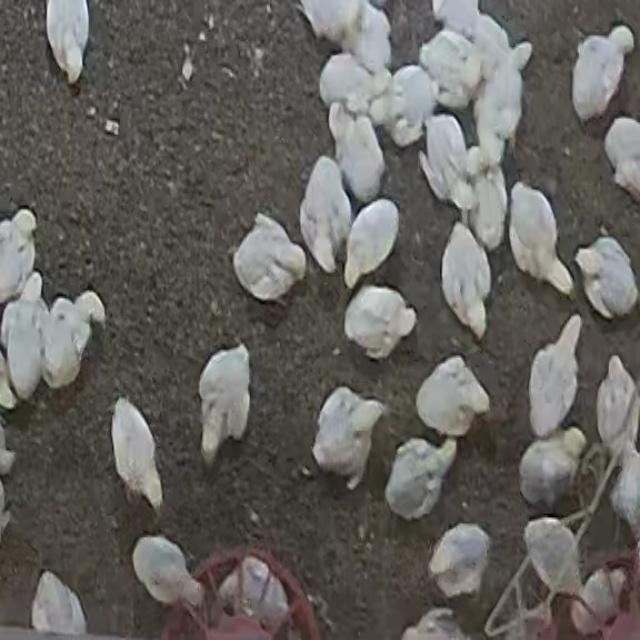chicken: (312, 386, 390, 489), (508, 183, 574, 295), (527, 316, 584, 442), (39, 290, 107, 392), (571, 24, 637, 128), (438, 220, 494, 340), (298, 156, 354, 274), (111, 398, 164, 521), (197, 344, 251, 464), (416, 356, 490, 442), (131, 535, 203, 623), (1, 280, 52, 404), (235, 215, 306, 302), (385, 435, 457, 520), (518, 426, 587, 513), (342, 284, 416, 362), (331, 104, 386, 208), (216, 554, 291, 630), (478, 41, 534, 142), (416, 28, 482, 112), (342, 198, 402, 290), (419, 114, 472, 216), (576, 235, 638, 319), (430, 522, 492, 602), (594, 353, 638, 463), (382, 64, 437, 148), (316, 52, 382, 122), (525, 516, 581, 598), (293, 1, 373, 57), (570, 561, 627, 637), (466, 158, 509, 251), (44, 1, 91, 86), (31, 570, 88, 636), (1, 209, 38, 308), (602, 115, 640, 207), (351, 1, 394, 81), (608, 432, 640, 537), (456, 11, 512, 69)
